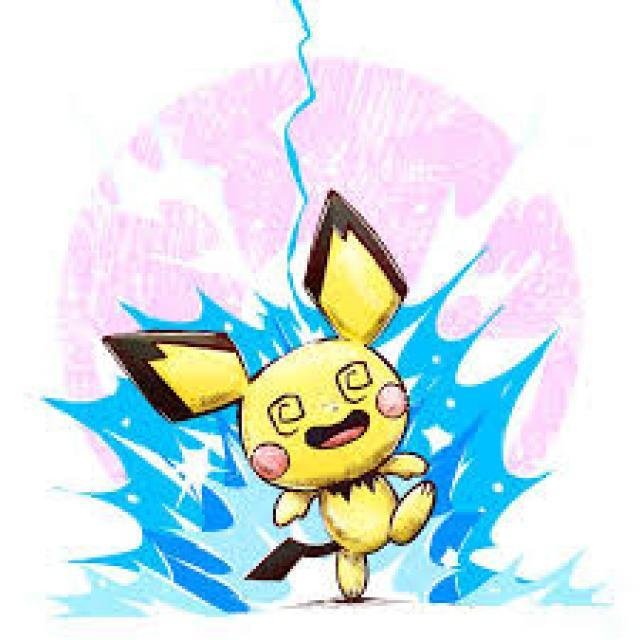pichu: (104, 186, 526, 614)
